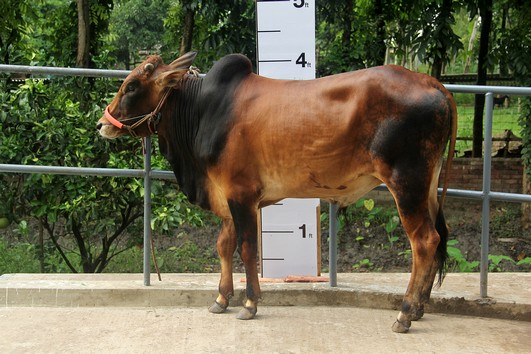cow: (88, 45, 462, 337)
